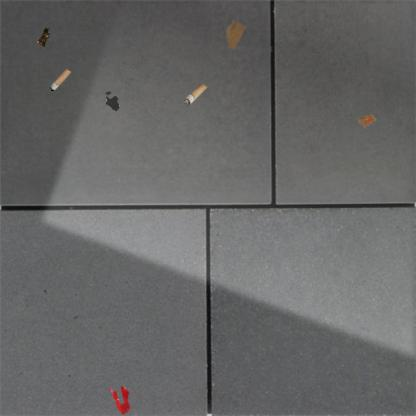dirty: (182, 82, 208, 108), (225, 19, 246, 51), (47, 67, 72, 91), (356, 112, 377, 129), (36, 26, 49, 47)
liquid: (108, 385, 131, 415), (104, 90, 120, 112)
